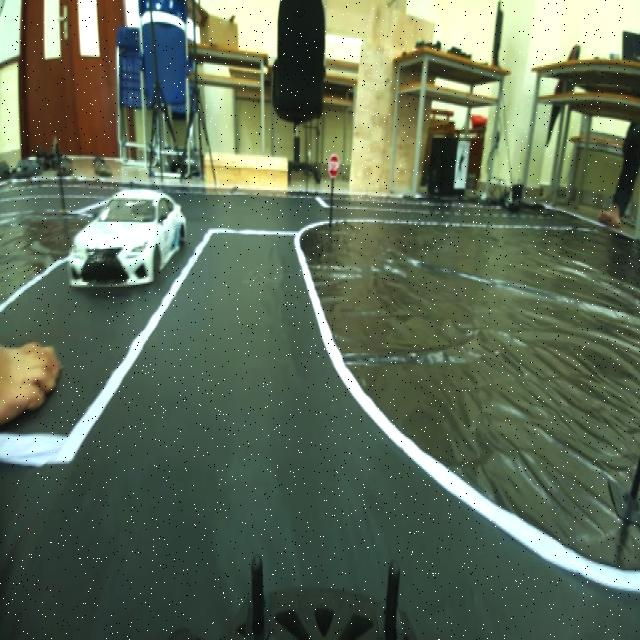car: (69, 186, 187, 302)
stop: (322, 150, 340, 174)
